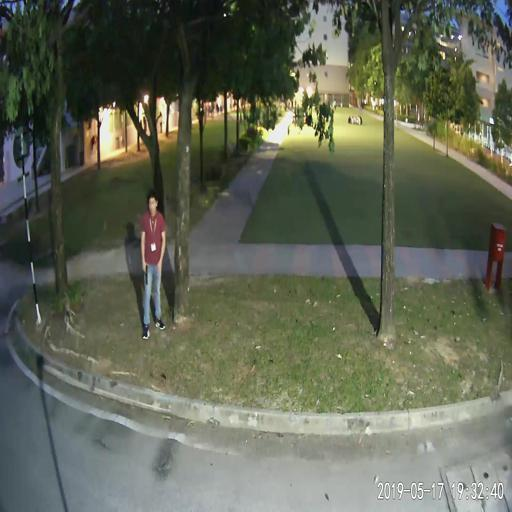Handgun: (140, 260, 147, 283)
